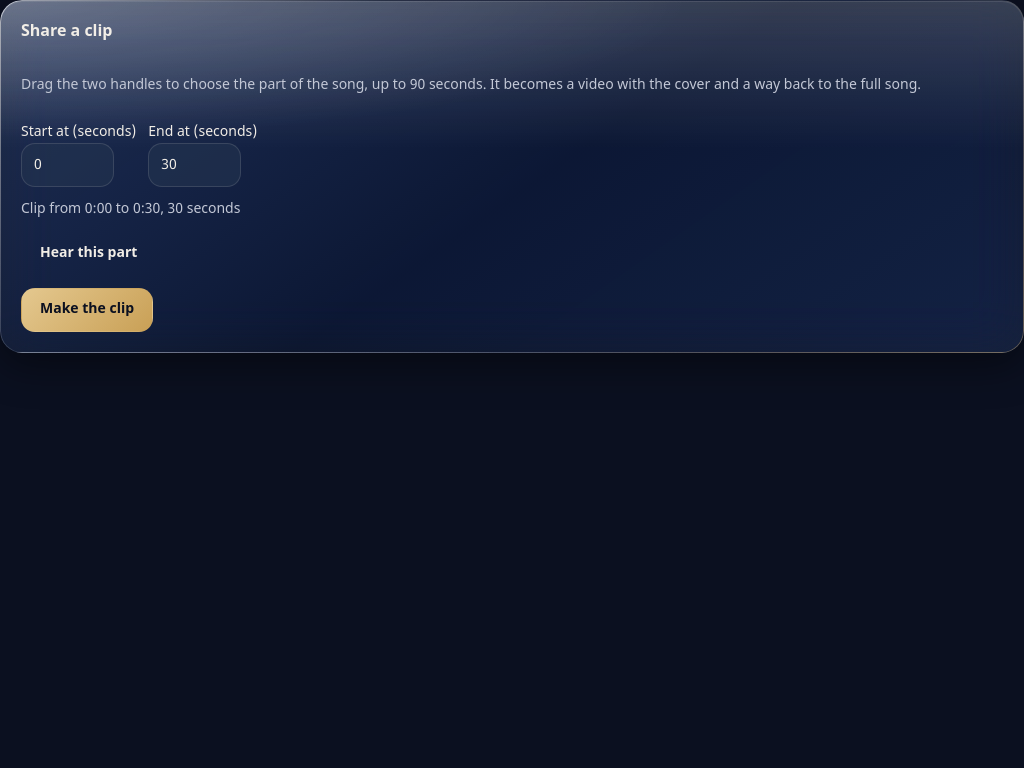
Test: ClipCard › does not show the computer hint where the phone's share sheet can take the video
The image size is (1024, 768).
Click the button "Make the clip" at (87, 310), box [21, 288, 153, 332]
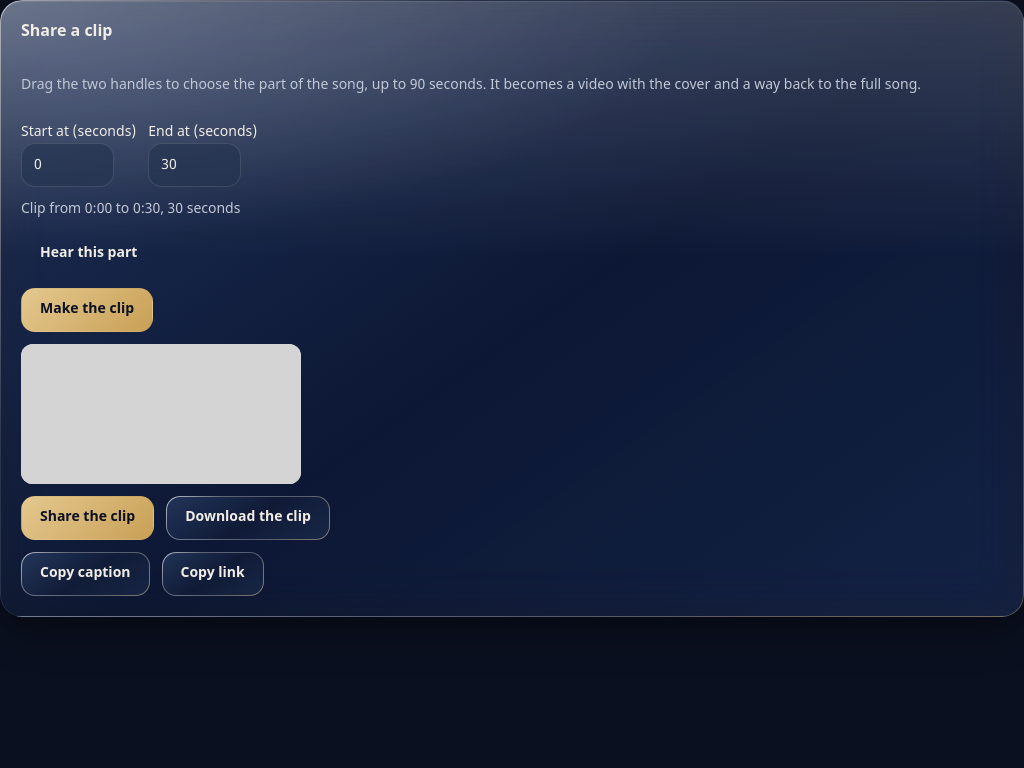
Now the button "Share the clip" is shown, box [21, 496, 154, 540]
